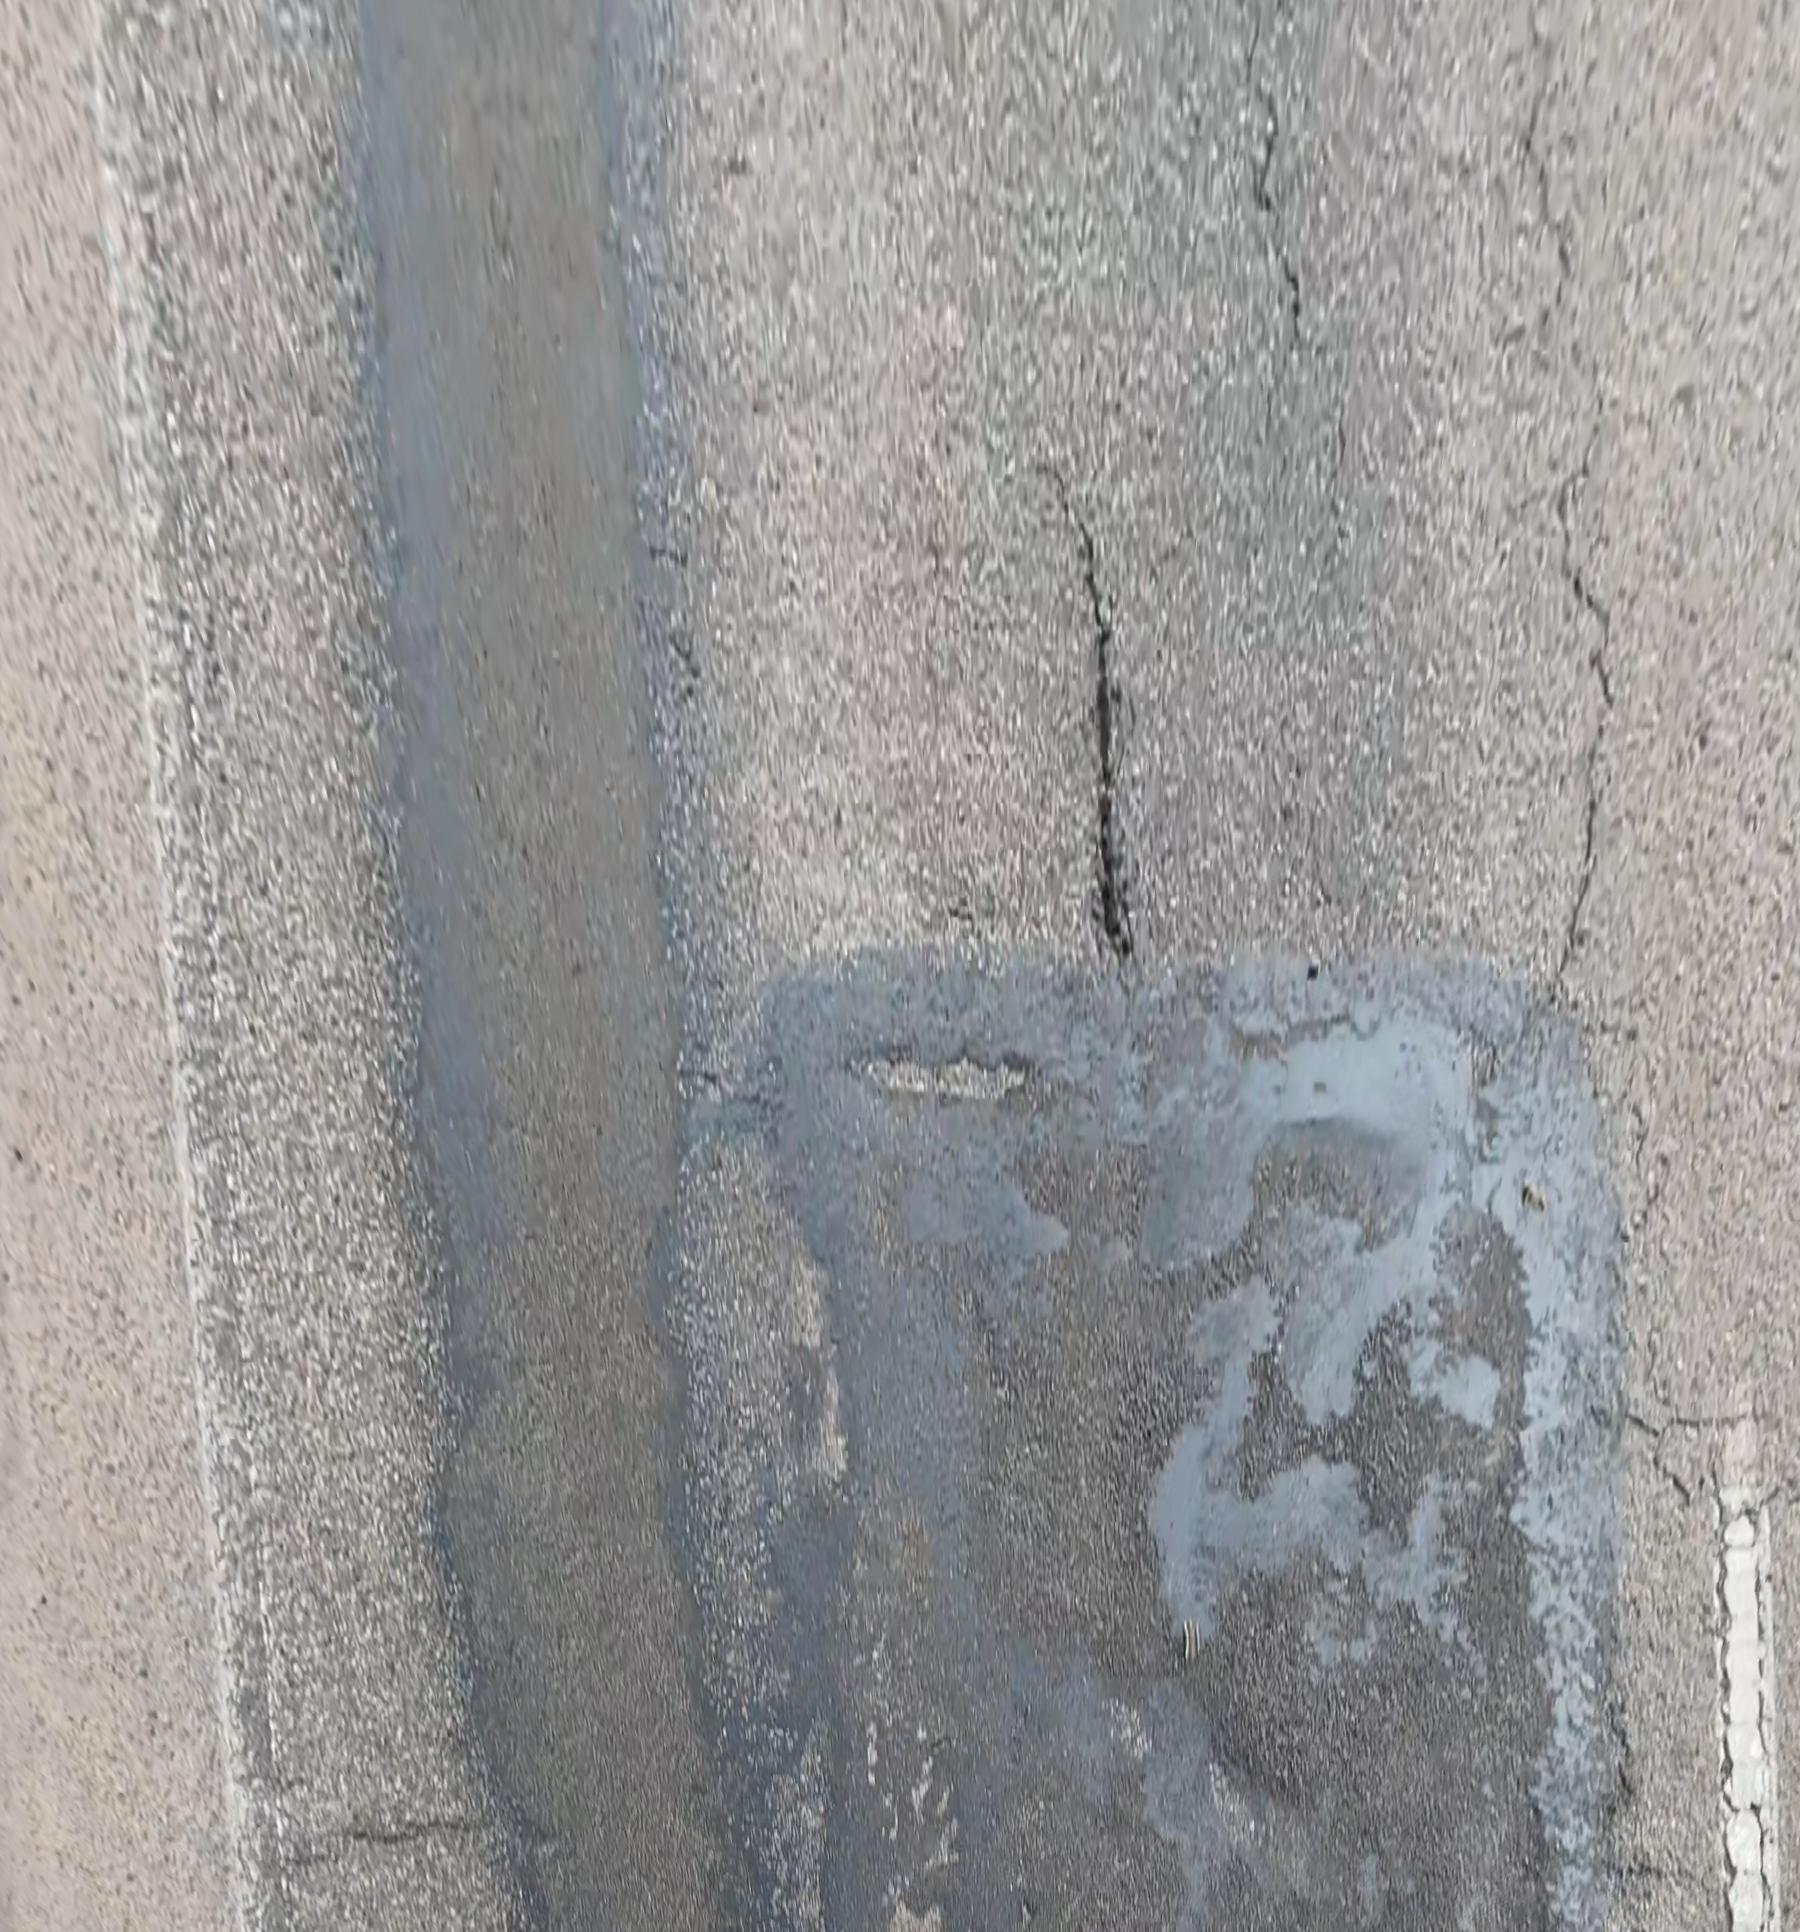pothole_patch_good: (683, 952, 1627, 1932), (359, 0, 722, 1932)
